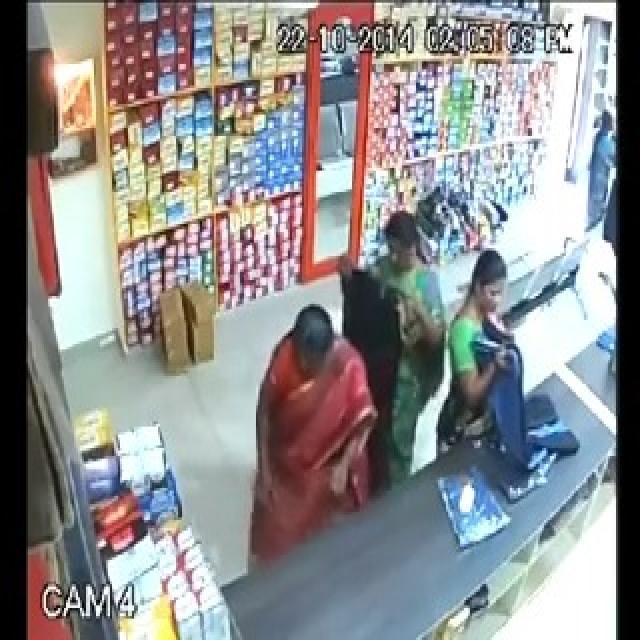Normal: (428, 236, 590, 512), (327, 188, 448, 495), (241, 299, 372, 578)
